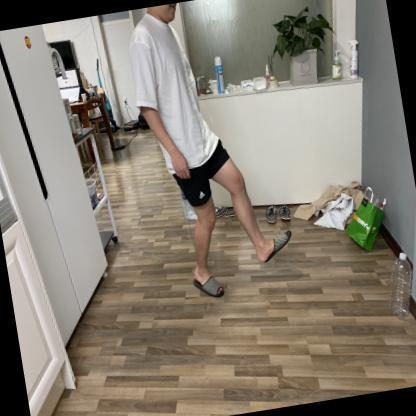no_safety-shoe: (190, 263, 239, 317), (248, 222, 299, 265)
